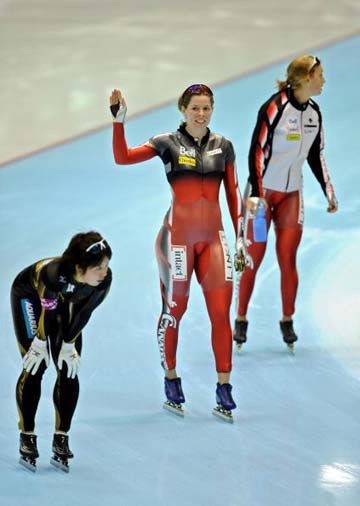handsup: (105, 81, 248, 431)
other: (230, 47, 349, 358), (7, 229, 124, 473)
